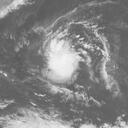cyclone: (46, 35, 79, 81)
